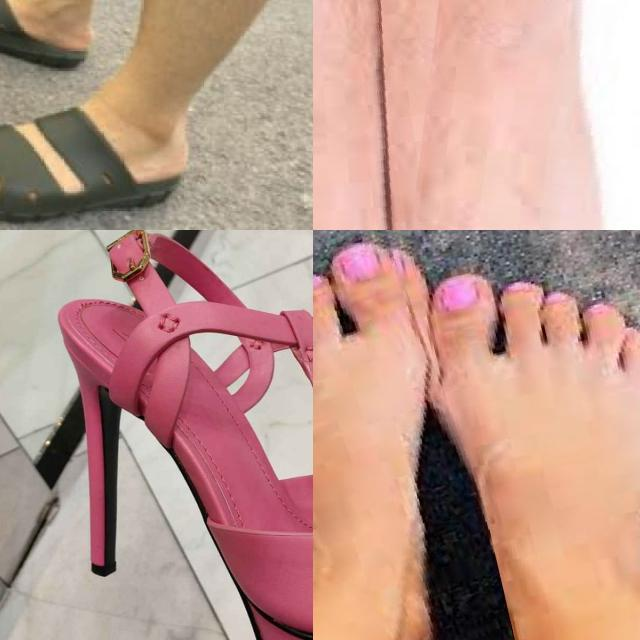Barefoots: (431, 264, 640, 640), (327, 0, 640, 230), (313, 238, 449, 640), (313, 0, 451, 230)
Sandals: (33, 230, 313, 640), (0, 57, 189, 222), (0, 0, 94, 69)
